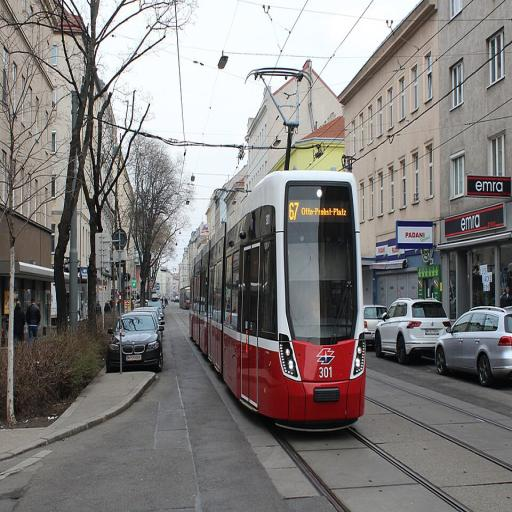Flexity: (188, 165, 368, 427)
